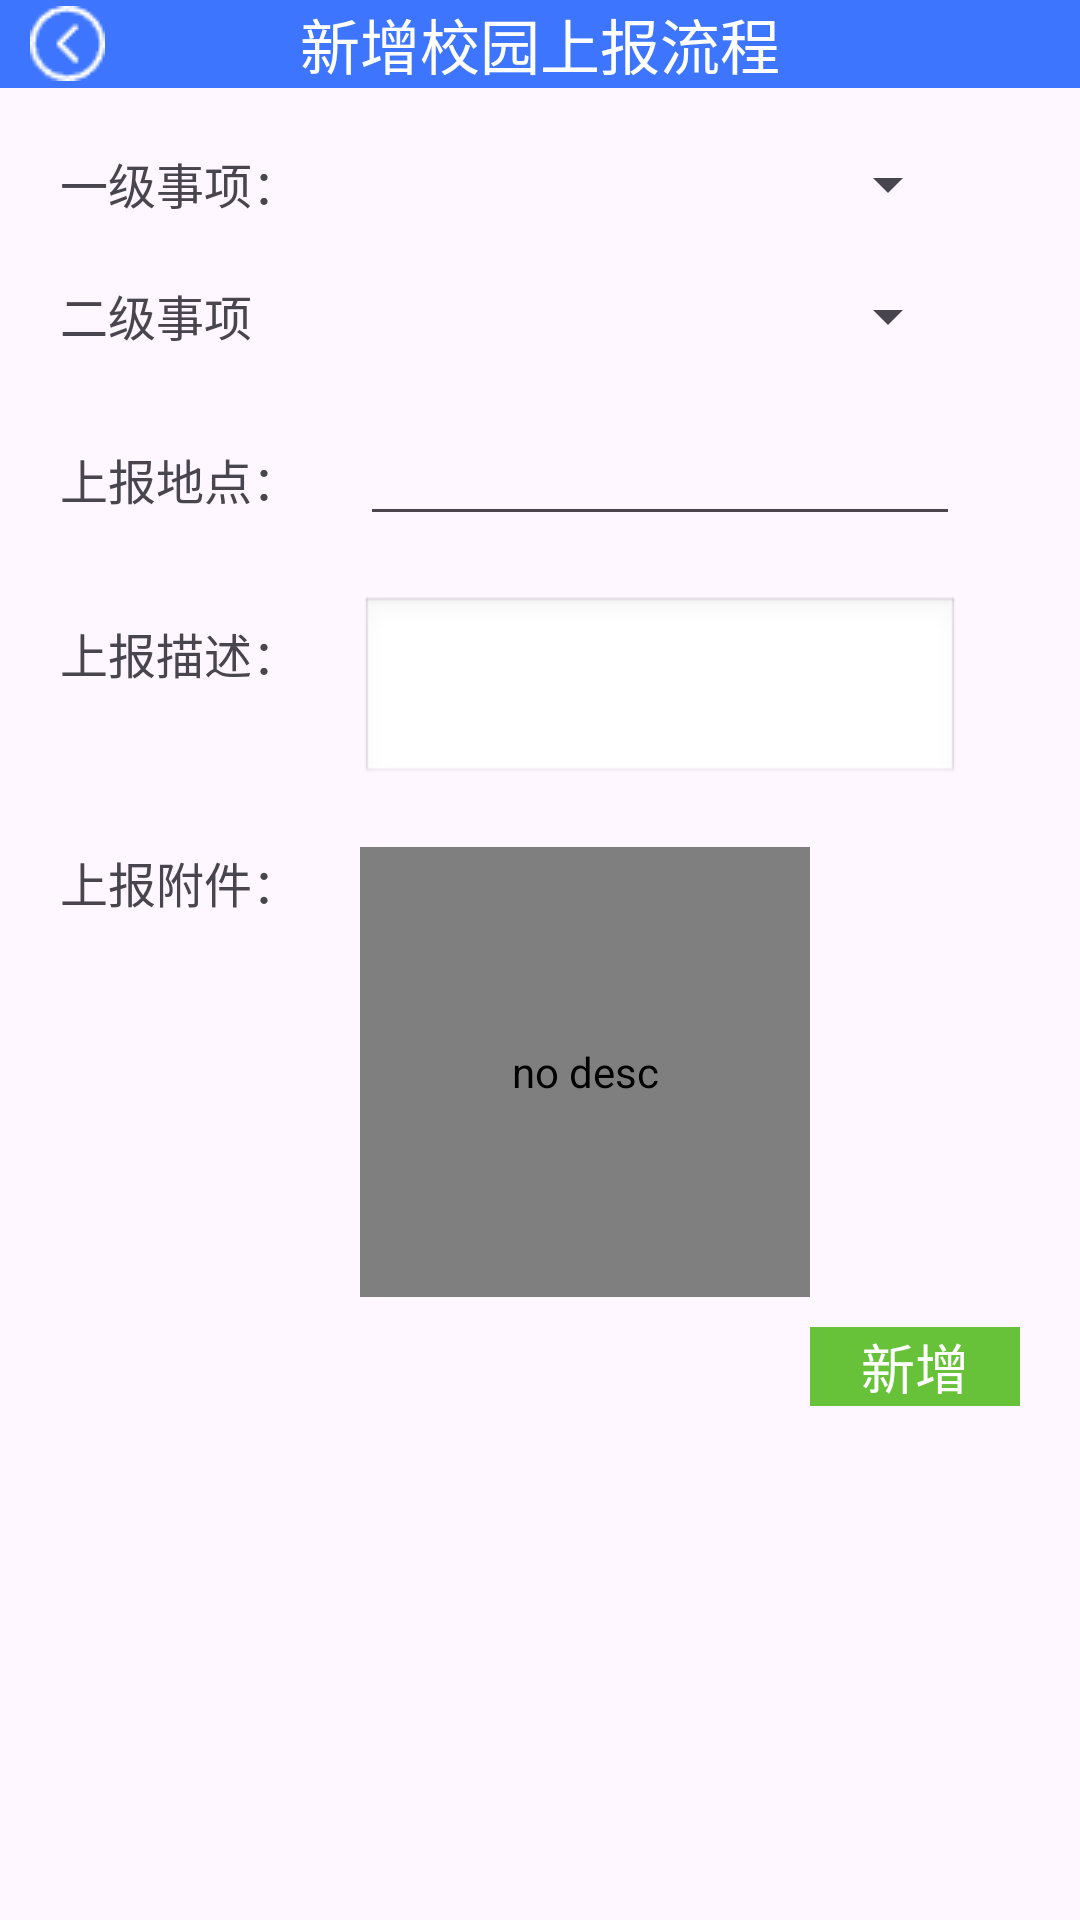

Where to tap for icons on this 1080 × 1920 app screen, as (x,y):
back: (67,43)
